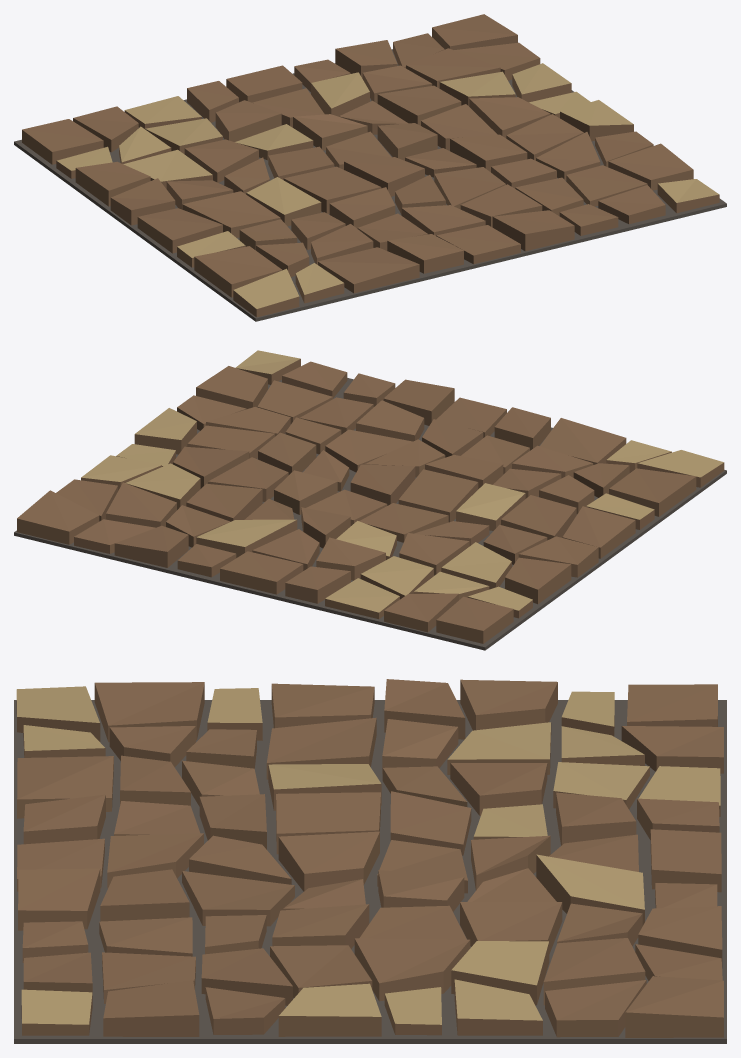
The model's file is TERRAIN_15.obj.
3 renders of one model, top to bottom at view 1: azimuth 30°, elevation 25°; view 2: azimuth 150°, elevation 25°; view 3: azimuth 270°, elevation 25°, orthographic. The views are drawn at different scales.
Visible parts, largest first — view 1: plates, fissure_floor; view 2: plates, fissure_floor; view 3: plates, fissure_floor.
Boxes of the visible parts, x1,y1,x2,y2 form: plates: [22, 14, 719, 317]; fissure_floor: [14, 49, 726, 321]; plates: [17, 350, 724, 643]; fissure_floor: [14, 378, 726, 650]; plates: [16, 679, 723, 1037]; fissure_floor: [14, 700, 726, 1043].
Bounding box in the file's own units: 45 × 2 × 40.
